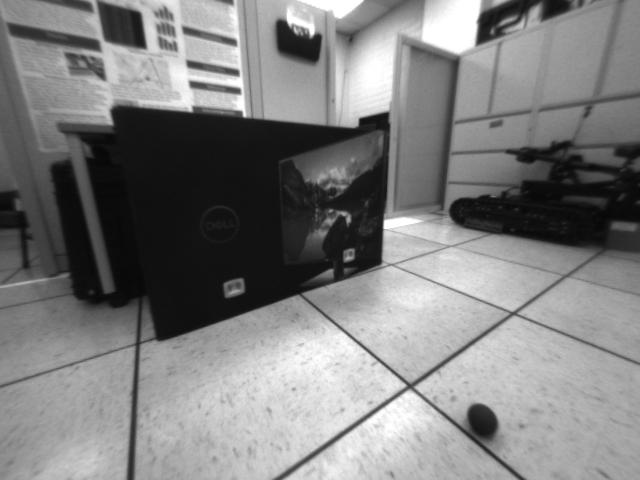dogtoy: (460, 395, 505, 441)
